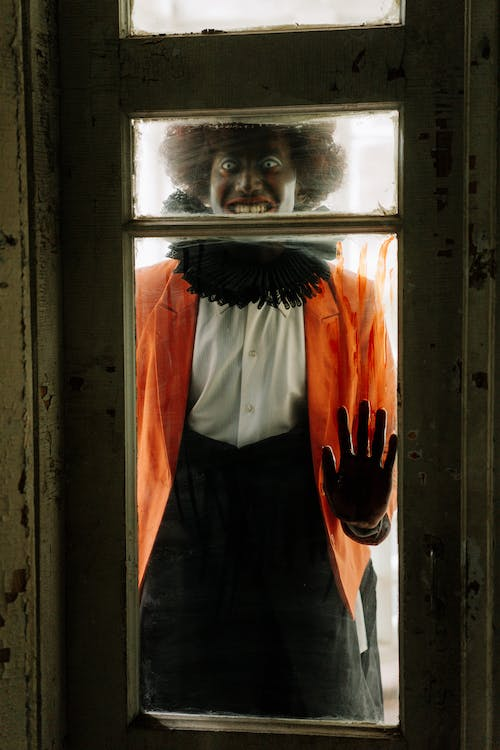blood: (331, 235, 398, 434), (319, 397, 398, 530)
